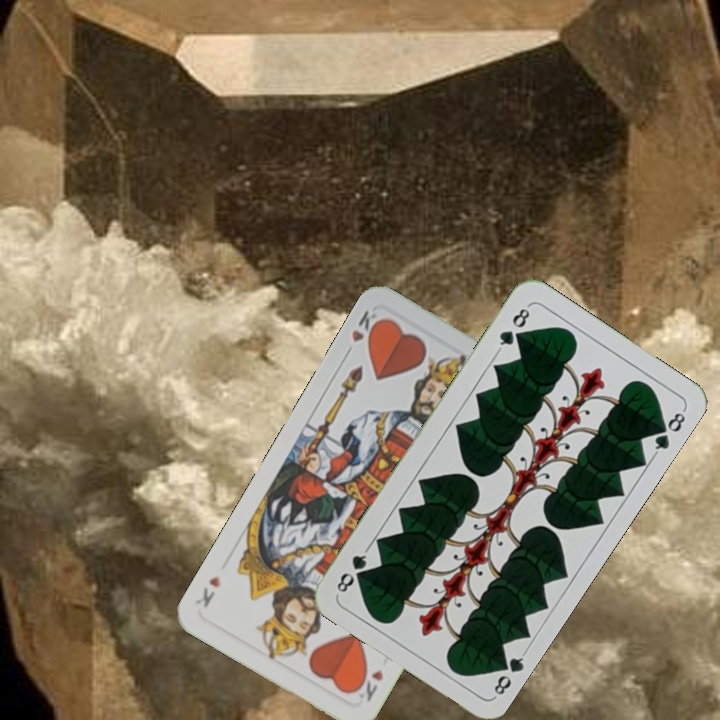G8: (489, 648, 529, 700), (494, 301, 533, 354)
HK: (340, 305, 386, 359), (350, 663, 386, 704)
